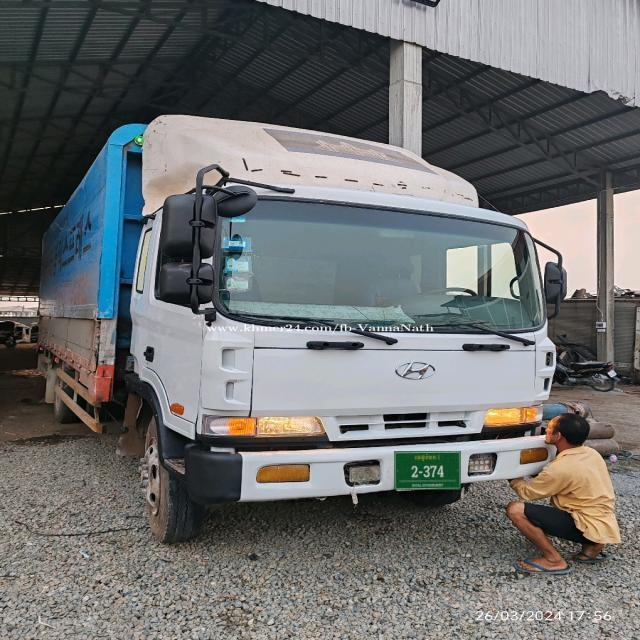Plate Number: (394, 451, 462, 491)
